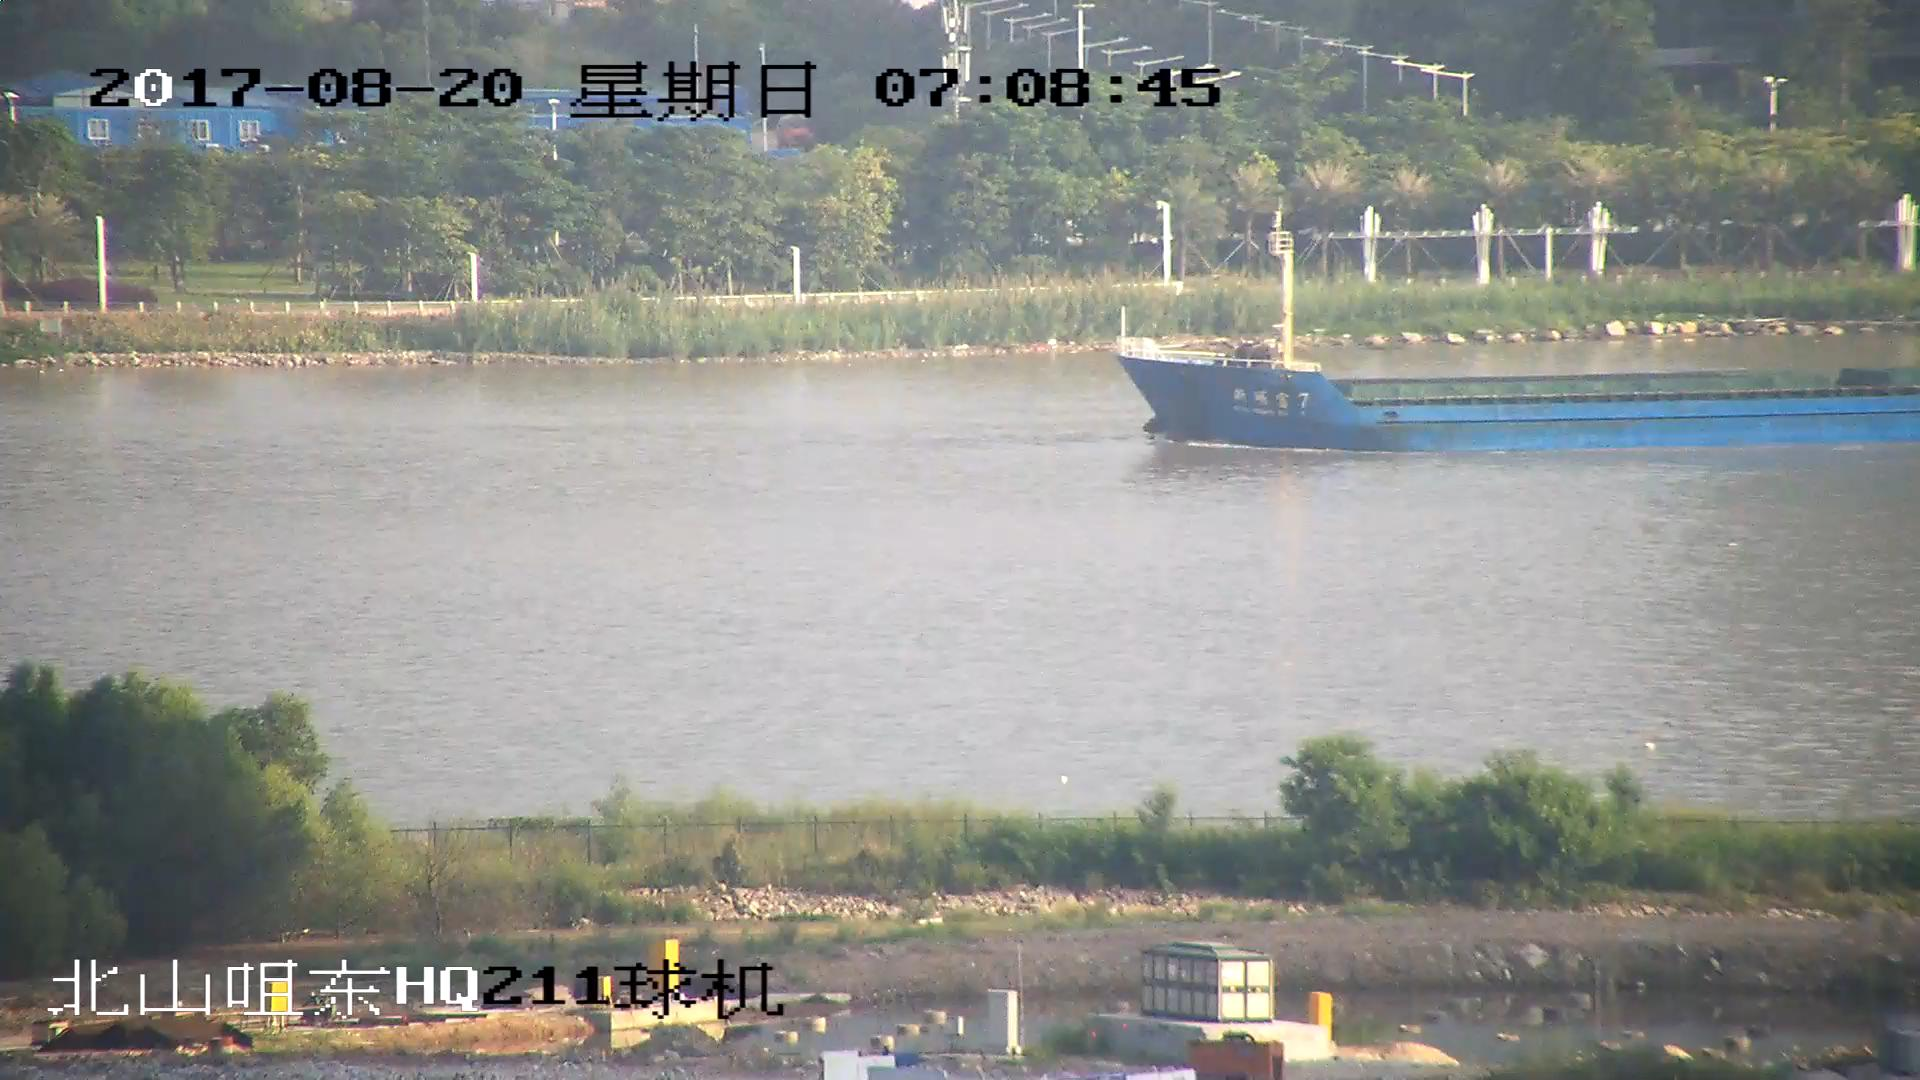general cargo ship: (1123, 242, 1920, 458)
